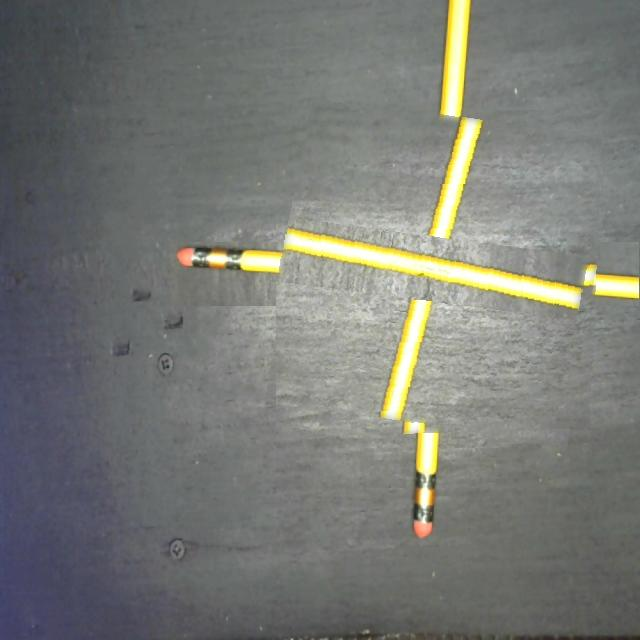biodegradable: (276, 110, 604, 438)
